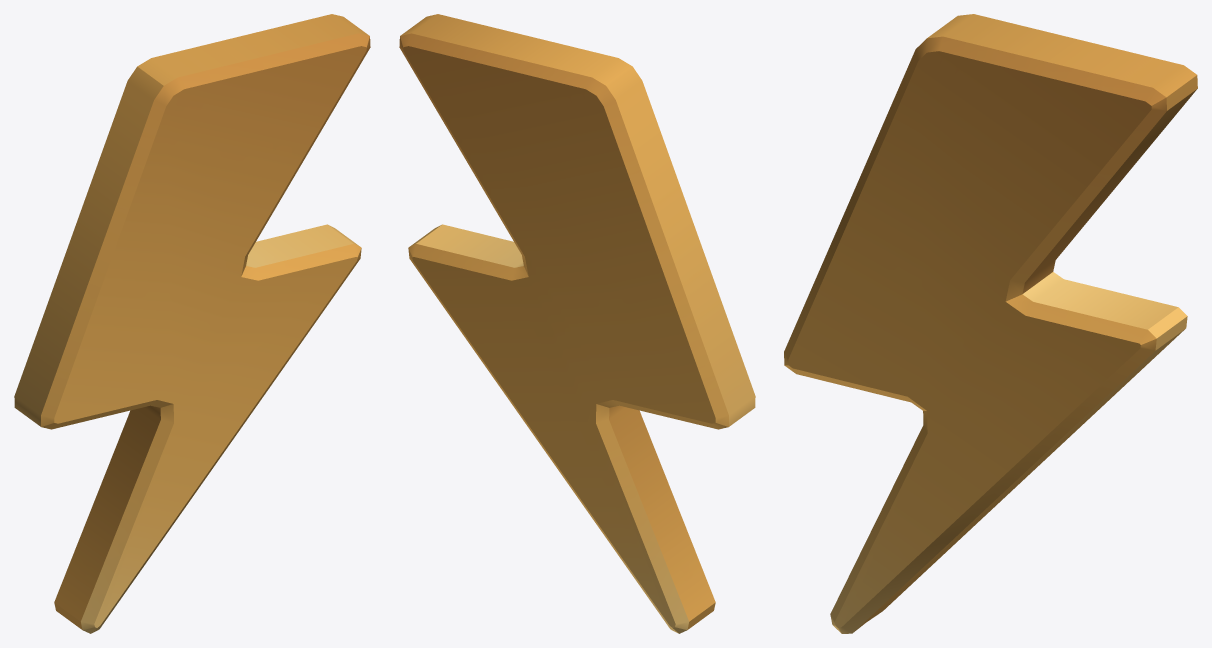
Rendered from Energy.fbx.
3 renders of one model, left to right at view 1: azimuth 30°, elevation 25°; view 2: azimuth 150°, elevation 25°; view 3: azimuth 330°, elevation 25°, orthographic. The views are drawn at different scales.
Visible parts, largest first — view 1: Energy; view 2: Energy; view 3: Energy.
Part boxes in pixels (<box>): Energy: <box>14,14,370,633</box>; Energy: <box>399,14,755,633</box>; Energy: <box>784,14,1197,633</box>.
Size of the model in its own units: 47.58 by 73.88 by 9.05.
